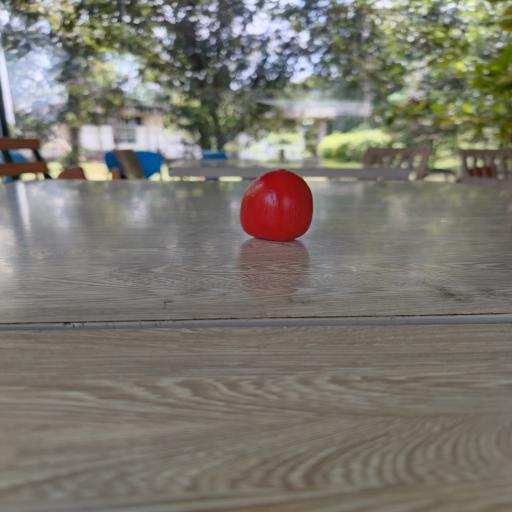spoiled: (240, 170, 313, 241)
